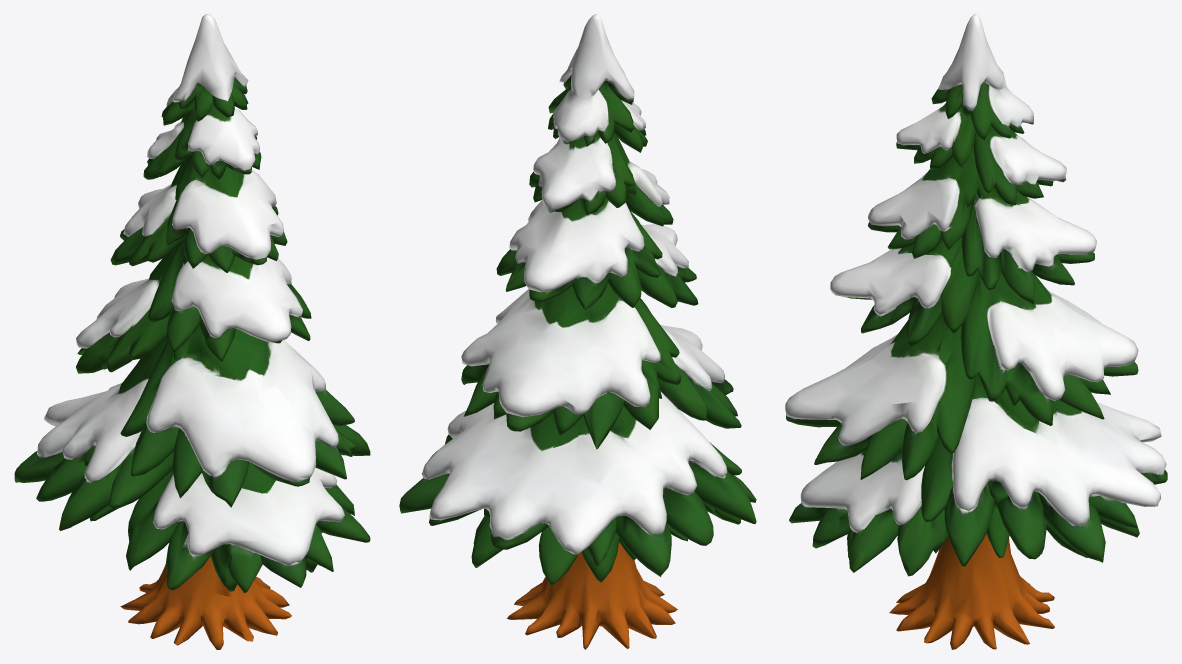
File: pine_snow_a.glb
The picture shows the model from 3 angles, left to right: view 1: azimuth 30°, elevation 25°; view 2: azimuth 150°, elevation 25°; view 3: azimuth 270°, elevation 25°; orthographic projection.
Parts seen in each view (by area): view 1: tripo_node_a7171493-8969-424a-afb3-c34778330866; view 2: tripo_node_a7171493-8969-424a-afb3-c34778330866; view 3: tripo_node_a7171493-8969-424a-afb3-c34778330866.
Part boxes in pixels (x1=…): tripo_node_a7171493-8969-424a-afb3-c34778330866: x1=14, y1=14, x2=370, y2=649; tripo_node_a7171493-8969-424a-afb3-c34778330866: x1=399, y1=14, x2=756, y2=649; tripo_node_a7171493-8969-424a-afb3-c34778330866: x1=785, y1=14, x2=1167, y2=649.
Size of the model in its own units: 2.81 by 5.2 by 2.99.
Materials: 1 (1 with a texture image).
